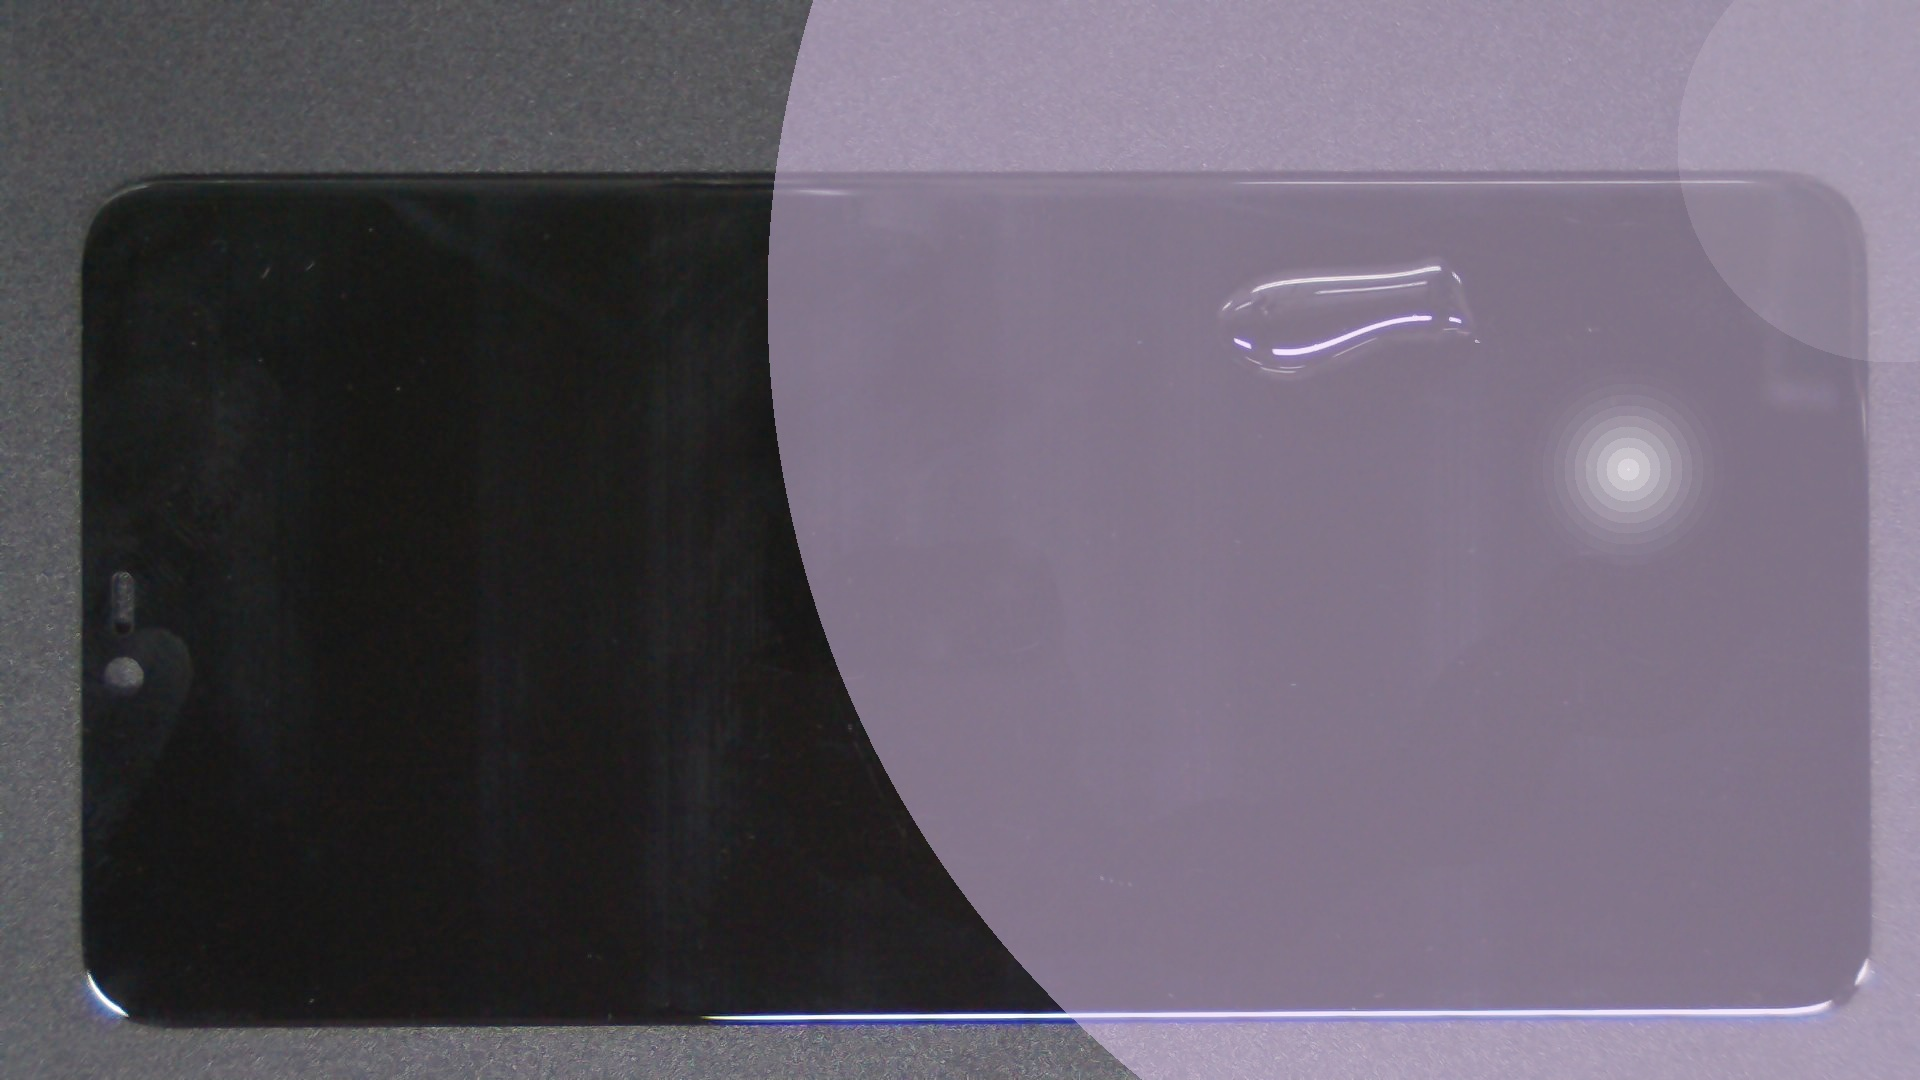oil: (717, 128, 1920, 385)
